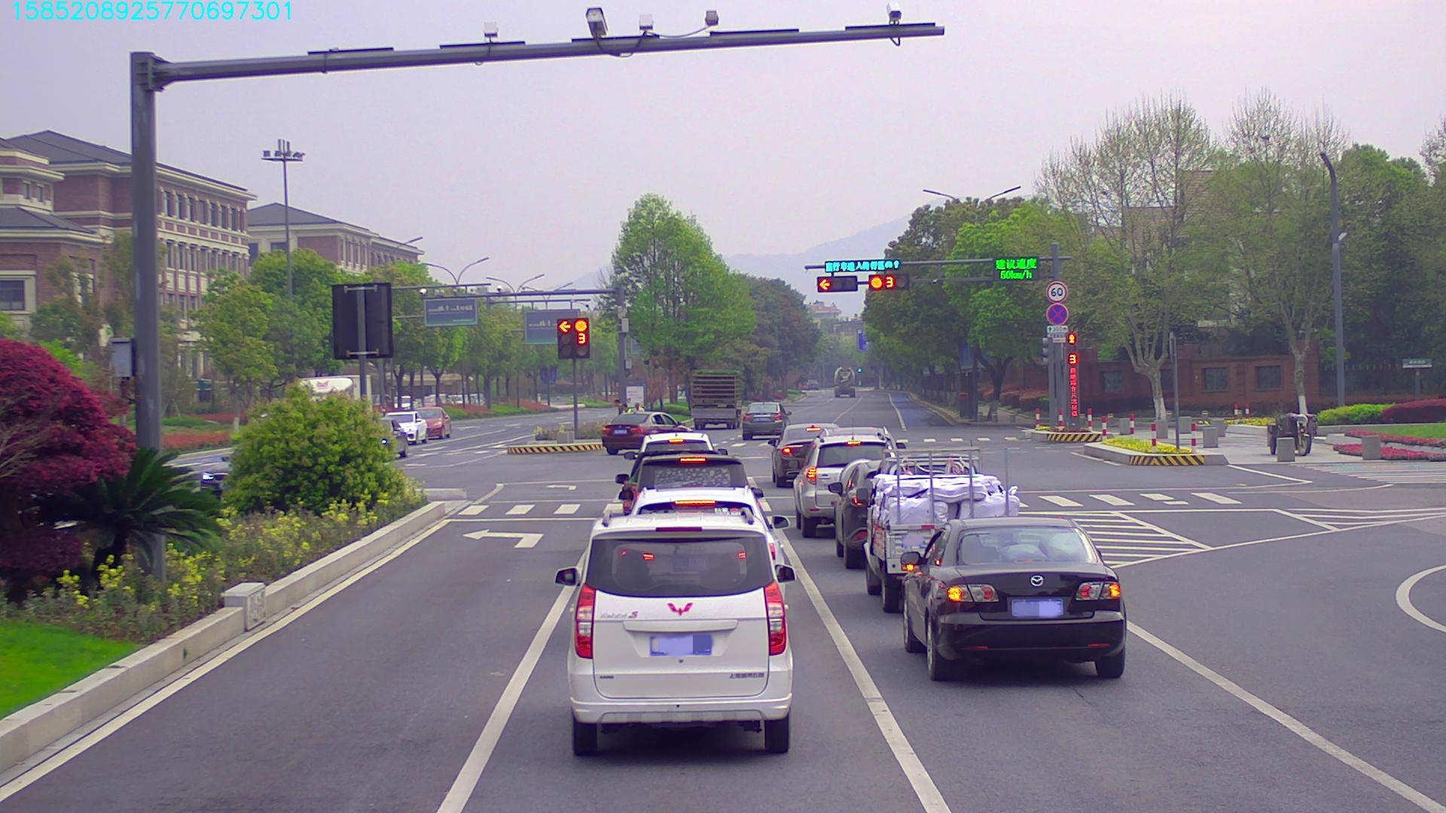red: (817, 275, 856, 291), (870, 275, 908, 290)
wait_on: (824, 261, 906, 271)
